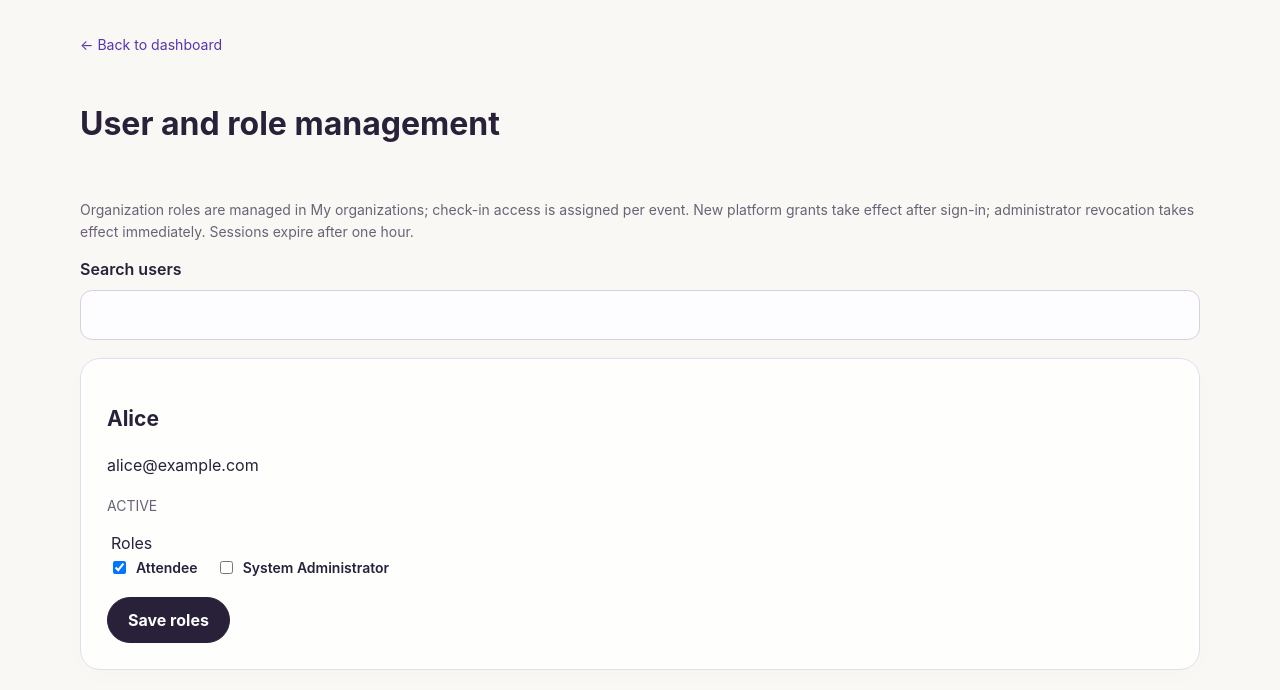
Scenario: retains selected roles after a failed save and permits retry
Click the checkbox labelled "System Administrator" at (226, 568), box [220,561,233,574]
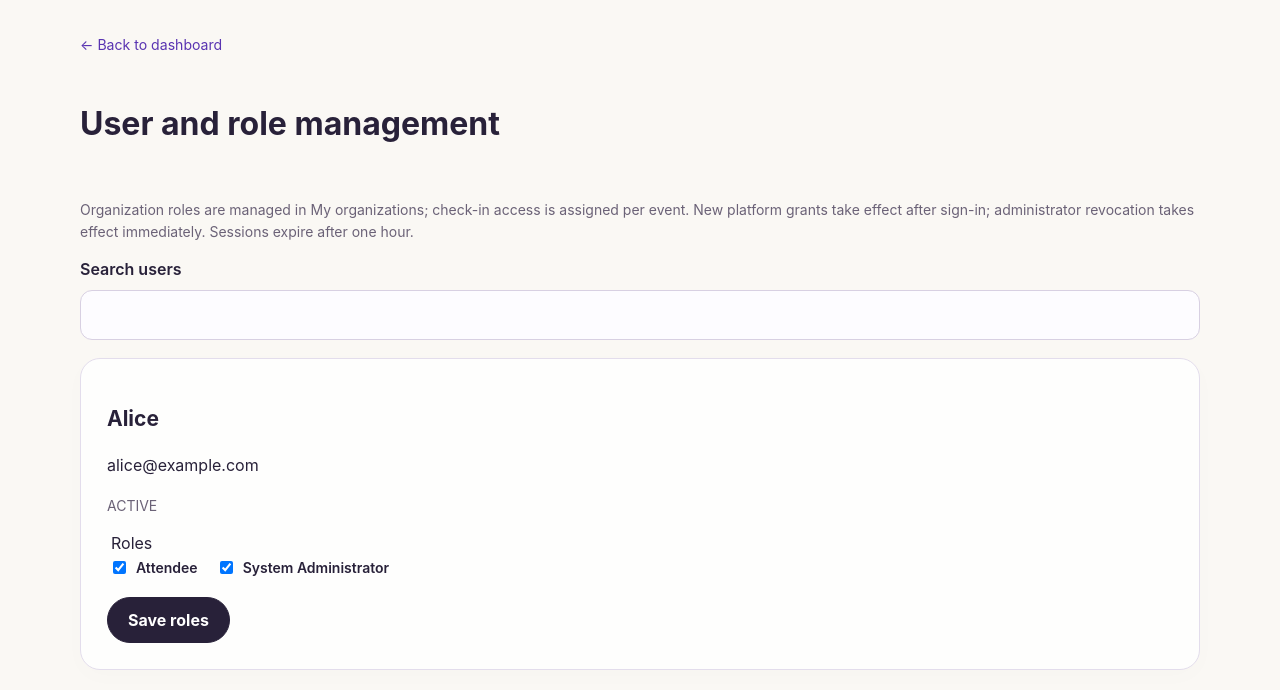
Click the button "Save roles" at (168, 620), box [107,597,230,643]
(page scrolled)
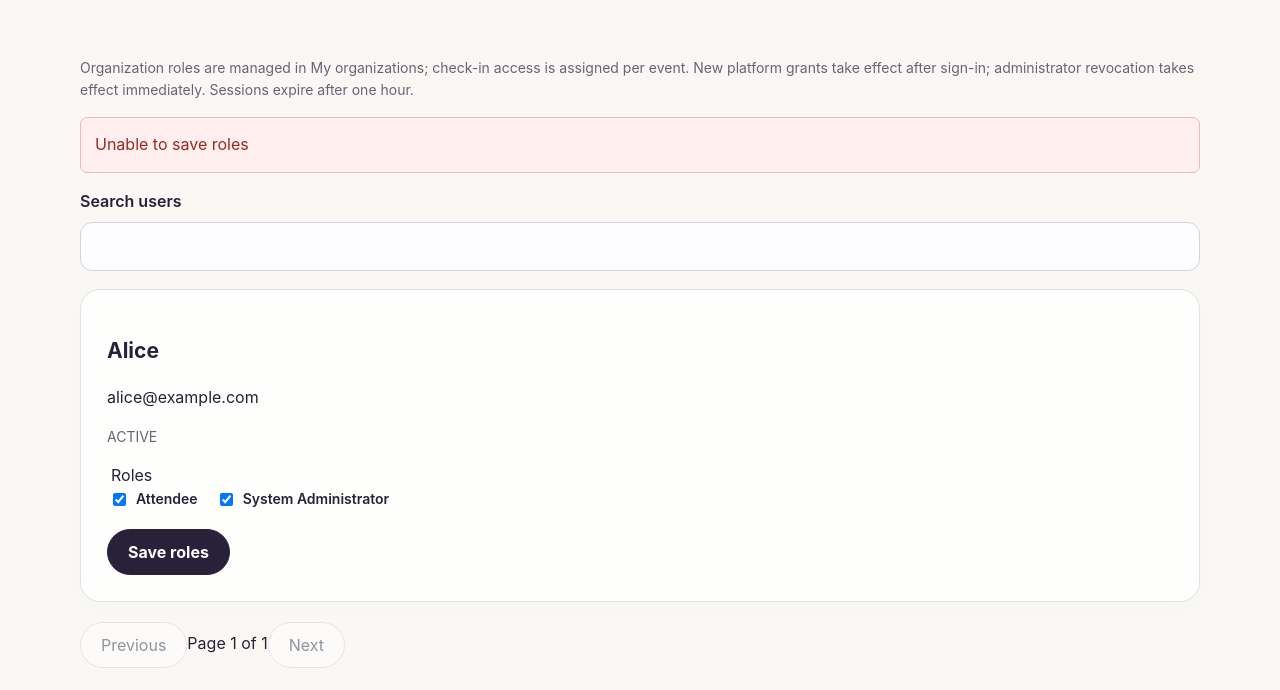
Check: the checkbox labelled "System Administrator" is checked, box [220,493,233,506]
Check: the text "Unable to save roles" is shown, box [80,117,1200,173]
Click the button "Save roles" at (168, 552), box [107,528,230,574]
(page scrolled)
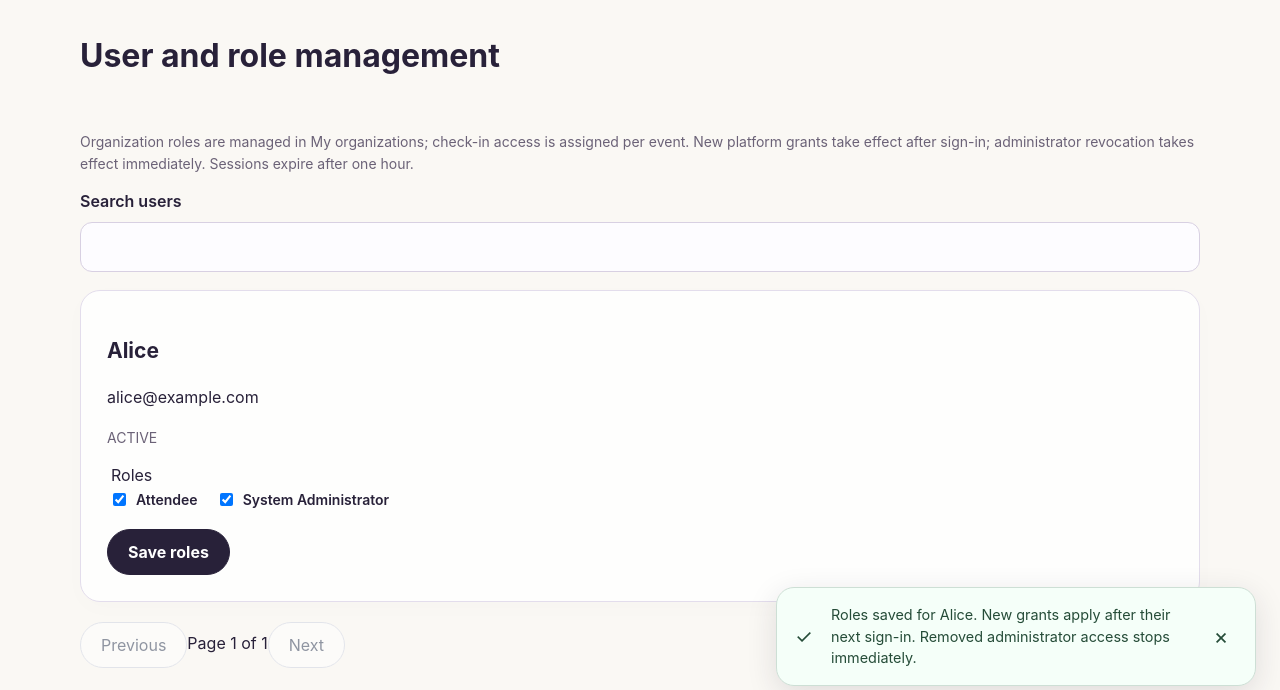
Check: the text "Unable to save roles" is gone
